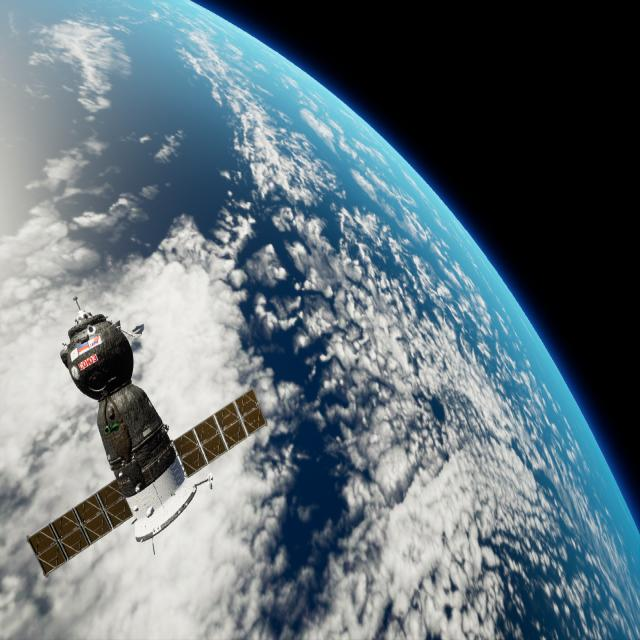Satellites revolving around earth: (25, 294, 268, 580)
